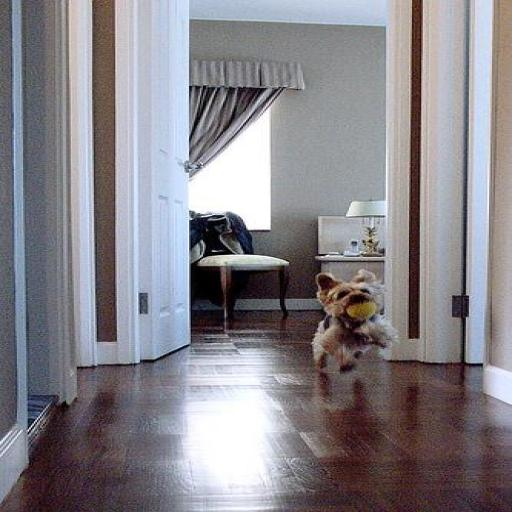dog_face: (315, 270, 388, 319)
